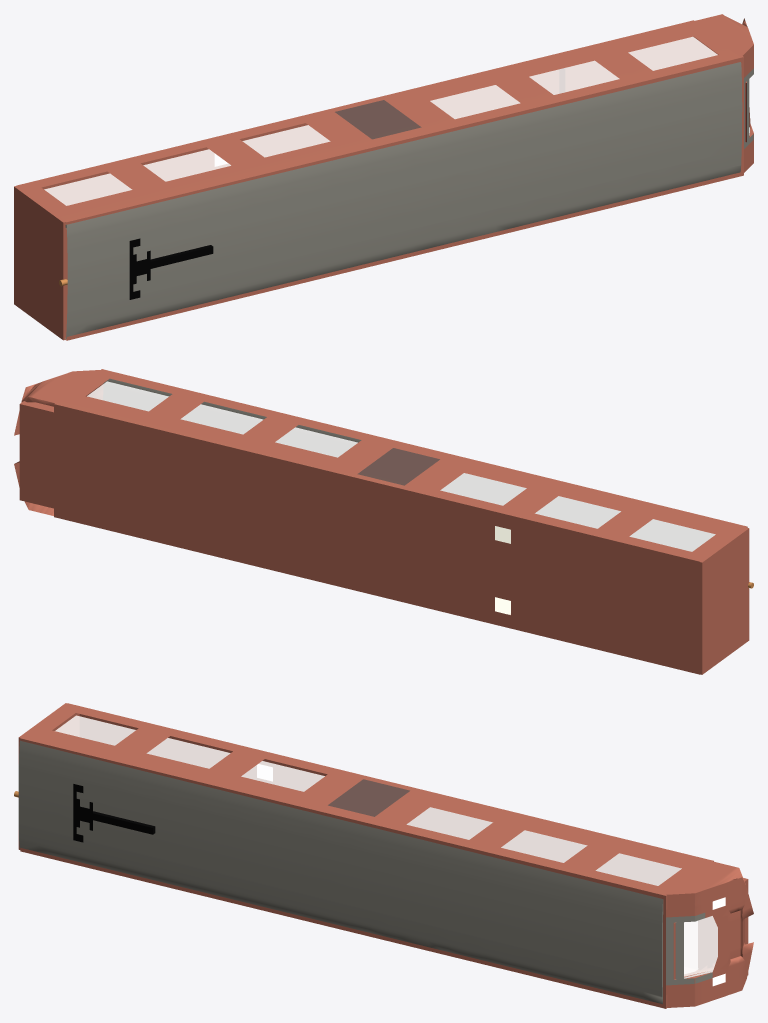
Rendered from asset18.glb.
3 views of the same model, one above another, from view 1: azimuth 30°, elevation 25°; view 2: azimuth 150°, elevation 25°; view 3: azimuth 330°, elevation 25° (orthographic). The views are drawn at different scales.
Parts seen in each view (by area): view 1: Cylinder2, Cube1_copy12, Cube16, Cube19, Cube18, Cylinder13, Cube13_copy14, Cube13; view 2: Cube1_copy12, Cube16, Cylinder2, Cube19, Cube18, Cylinder13; view 3: Cylinder2, Cube1_copy12, Cube16, Cylinder13, Cube18, Cube16_copy17, Cube13_copy14, Cube13, Cube19.
Part boxes in pixels (x1,y1,x2,y2): Cylinder2: (65,62,742,339); Cube1_copy12: (16,20,743,340); Cube16: (44,36,717,205); Cube19: (14,186,66,340); Cube18: (560,36,718,92); Cylinder13: (692,14,753,172); Cube13_copy14: (129,238,150,299); Cube13: (146,245,213,269); Cube1_copy12: (54,369,747,674); Cube16: (87,381,715,614); Cylinder2: (103,378,714,551); Cube19: (688,527,749,674); Cube18: (19,401,53,508); Cylinder13: (14,369,104,515); Cylinder2: (18,740,663,1004); Cube1_copy12: (20,703,713,1008); Cube16: (55,715,697,973); Cylinder13: (663,861,753,1007); Cube18: (579,844,748,975); Cube16_copy17: (684,916,717,978); Cube13_copy14: (73,784,92,842); Cube13: (89,811,155,834); Cube19: (18,703,79,849).
Size of what is drawn, in the model's own units: 0.978 by 0.153 by 0.1259.
